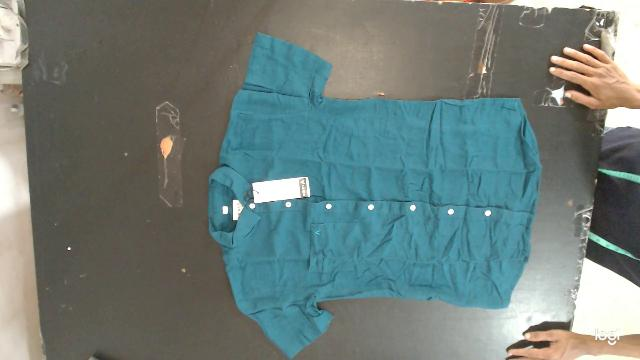new-garment: (209, 33, 541, 357)
